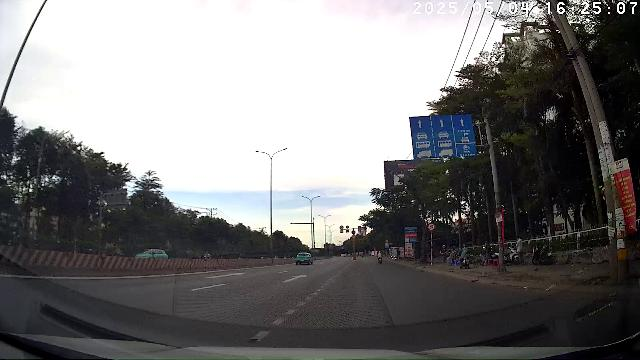127-toc-do-toi-da-50: (427, 222, 436, 231)
